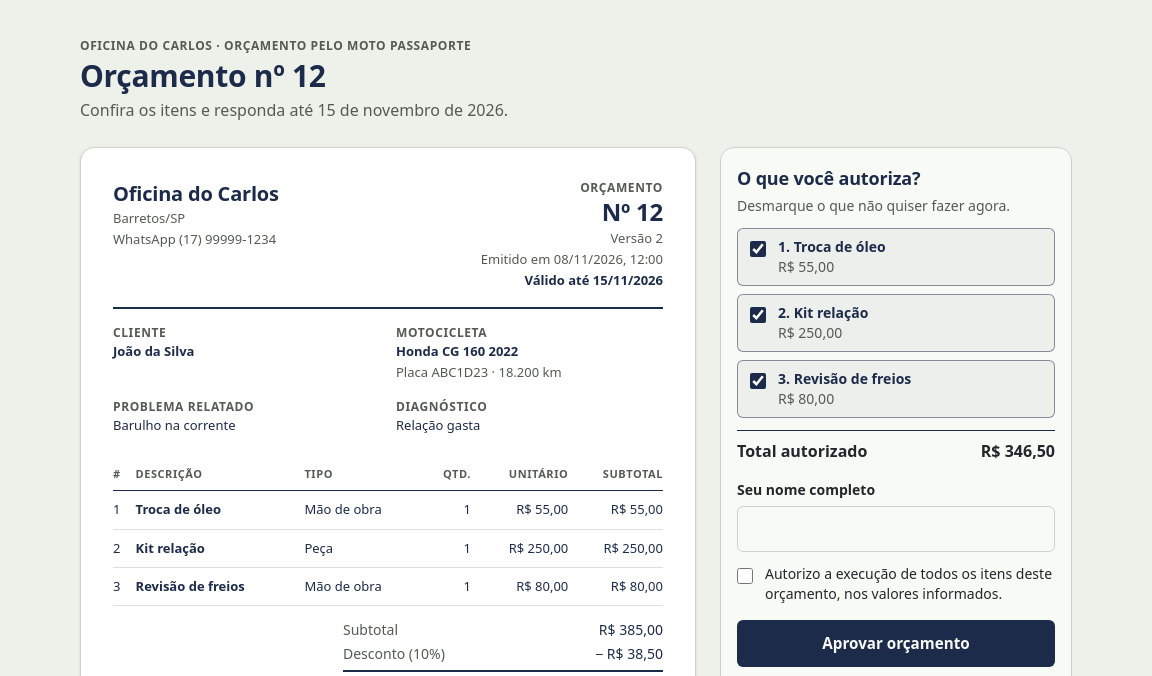
Test: página de aprovação do cliente › aprova só parte dos itens com nome e confirmação, e mostra o comprovante
Expected: the heading "Orçamento nº 12" is shown, [80,55,326,96]
Click the checkbox labelled "3. Revisão de freios R$ 80,00" at (758, 381), box [750,373,766,389]
(page scrolled)
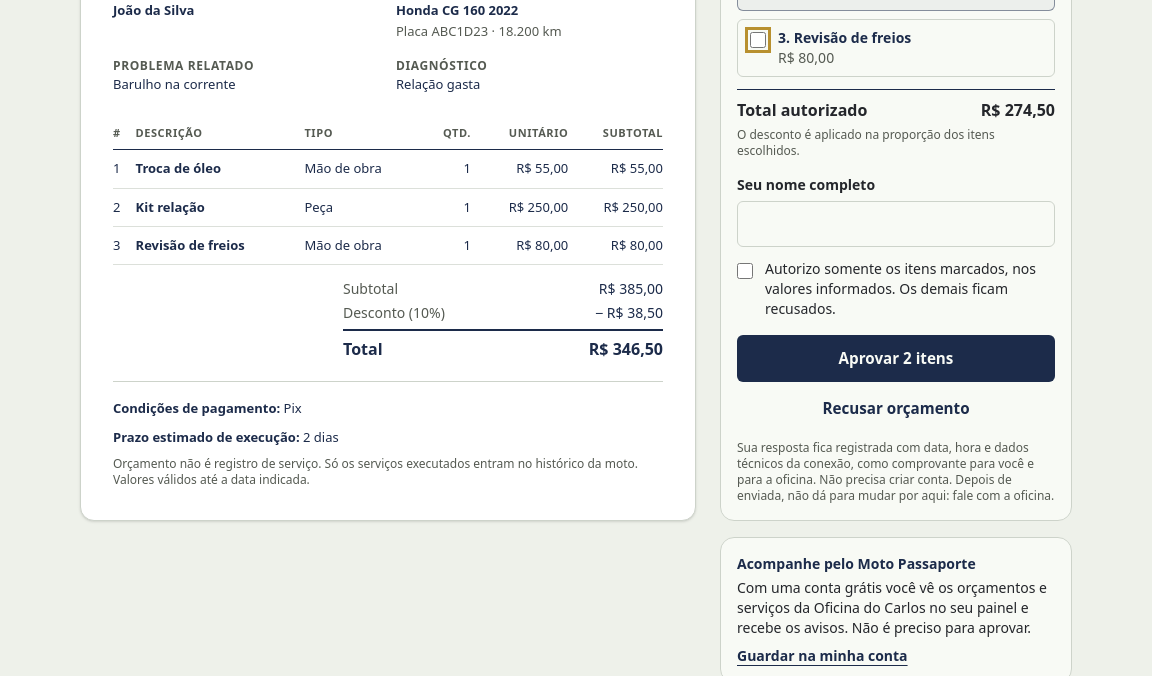
Expected: the button "Aprovar 2 itens" is shown
Click the button "Aprovar 2 itens" at (896, 358), box [737,335,1055,382]
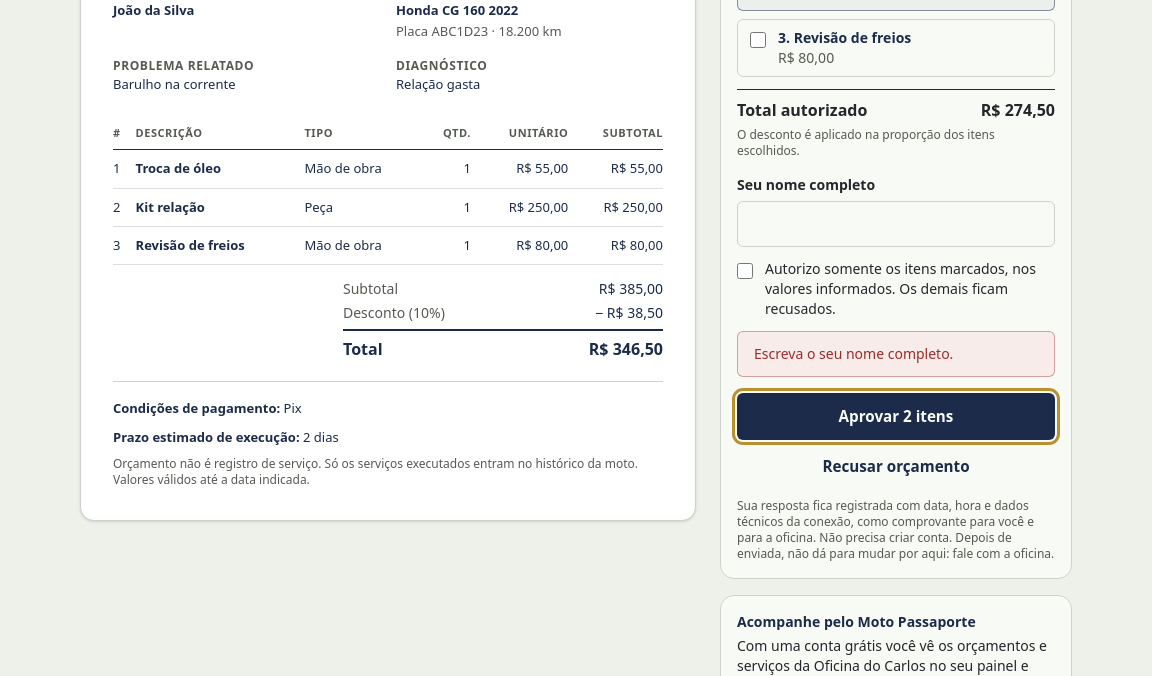
Expected: the text "Escreva o seu nome completo." is shown, [754,344,953,363]
Type "João da Silva" into the field labelled "Seu nome completo" at (896, 224), box [737,201,1055,247]
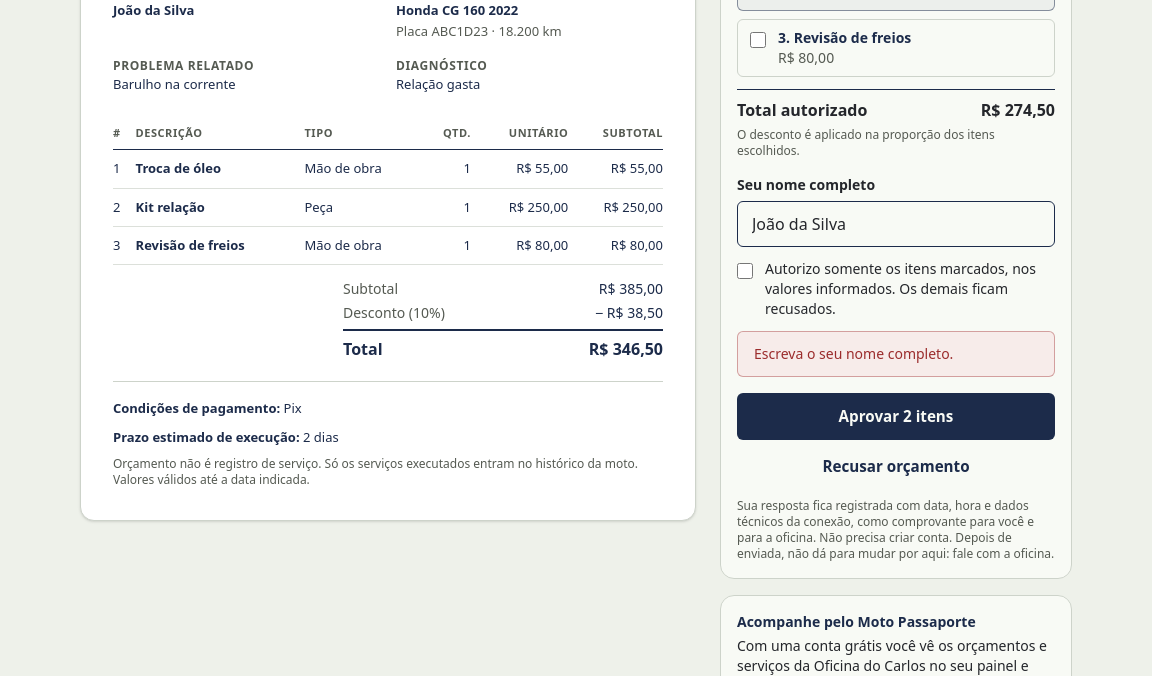
Click the button "Aprovar 2 itens" at (896, 416), box [737,393,1055,440]
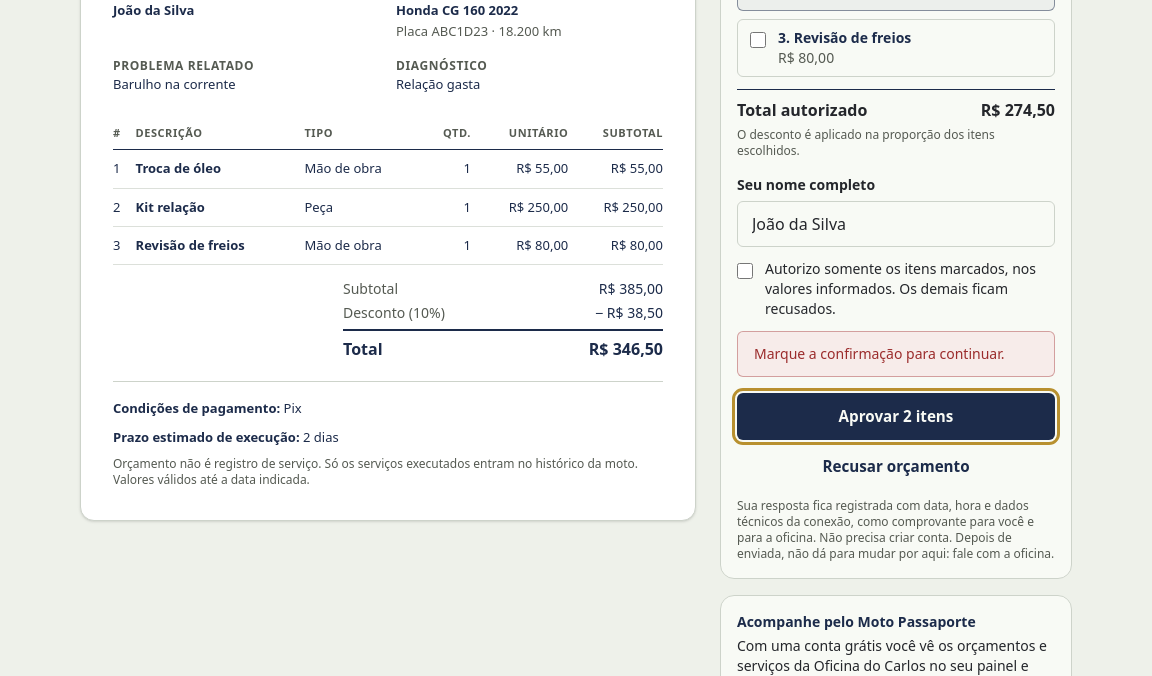
Expected: the text "Marque a confirmação para continuar." is shown, [754,344,1038,364]
Click the checkbox labelled "Autorizo somente os itens marcados" at (745, 271), box [737,263,753,279]
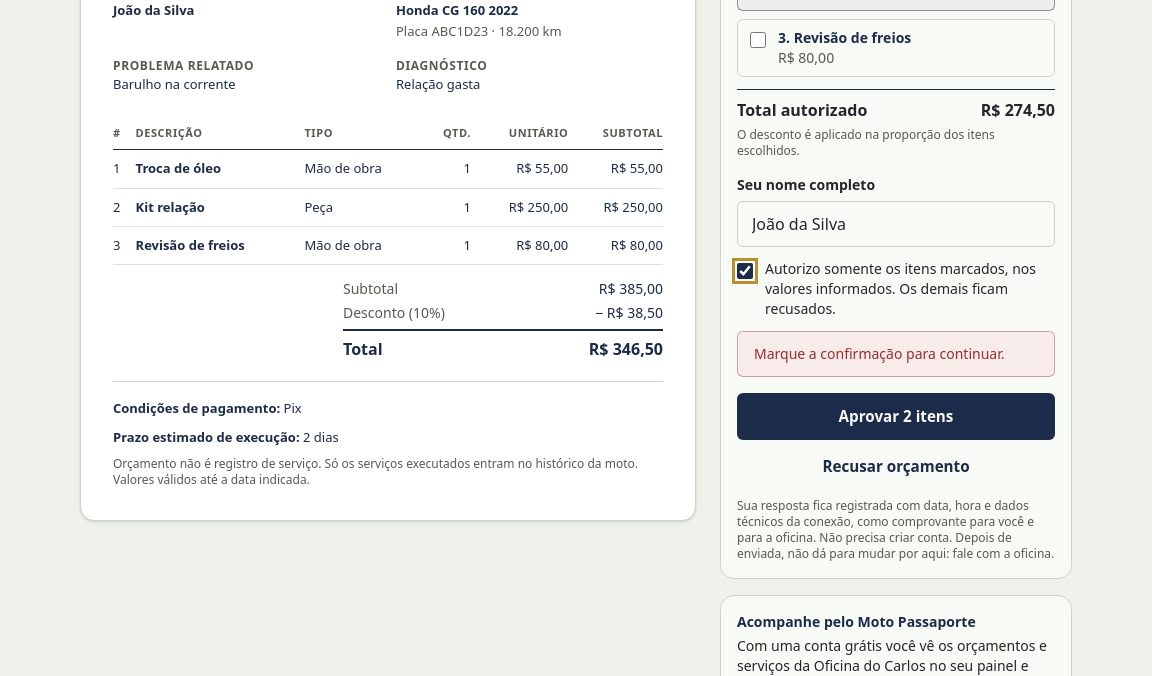
Click the button "Aprovar 2 itens" at (896, 416), box [737,393,1055,440]
(page scrolled)
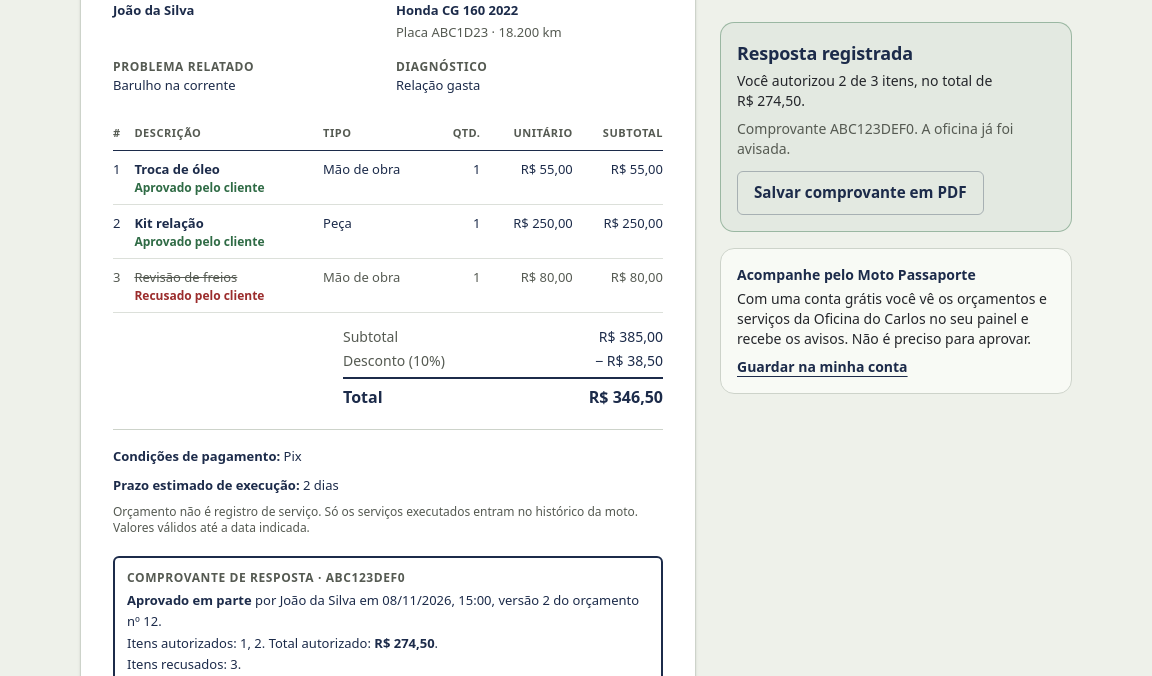
Expected: the text "Resposta registrada" is shown, [737,41,913,65]
Expected: the text "Comprovante de resposta · ABC123DEF0" is shown, [127,569,405,586]
